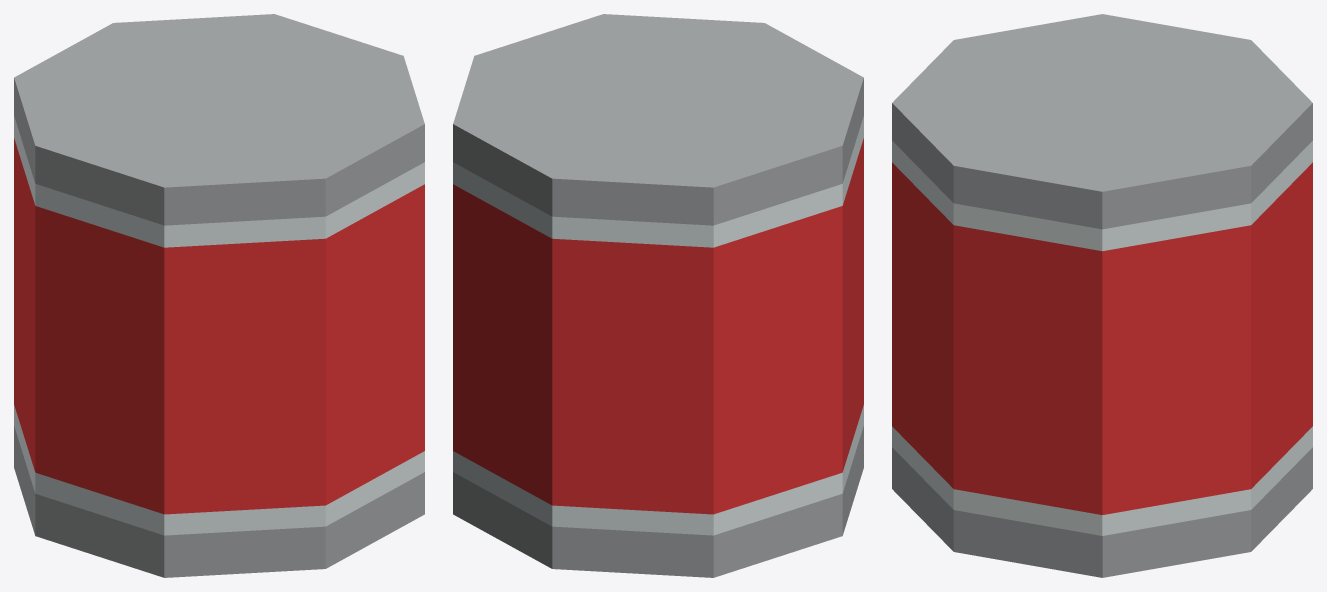
Rendered from can1.fbx.
3 views of the same model, side by side, from view 1: azimuth 30°, elevation 25°; view 2: azimuth 150°, elevation 25°; view 3: azimuth 270°, elevation 25° (orthographic).
Parts seen in each view (by area): view 1: can; view 2: can; view 3: can.
Part boxes in pixels (<box>): can: <box>14,14,424,577</box>; can: <box>453,14,863,577</box>; can: <box>892,14,1312,577</box>.
Bounding box in the file's own units: 0.7012 × 0.7102 × 0.7012.
1 material, 1 textured.
